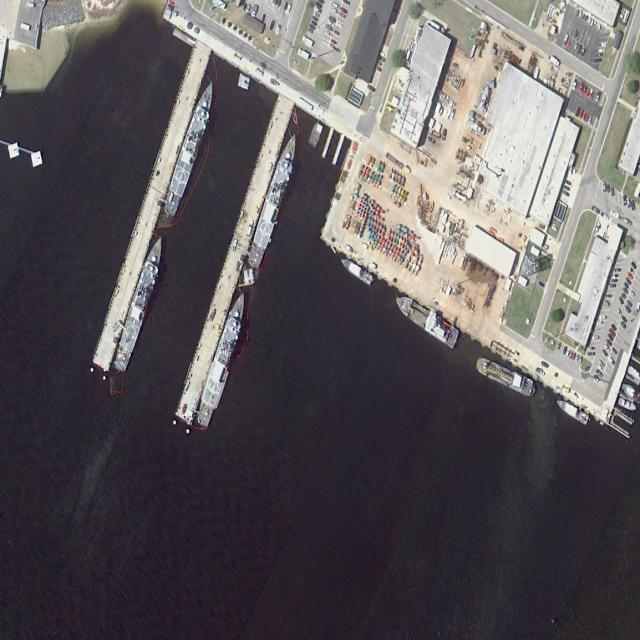Other Ship: (195, 285, 251, 431), (161, 74, 217, 219), (246, 128, 302, 272), (113, 231, 168, 376)
